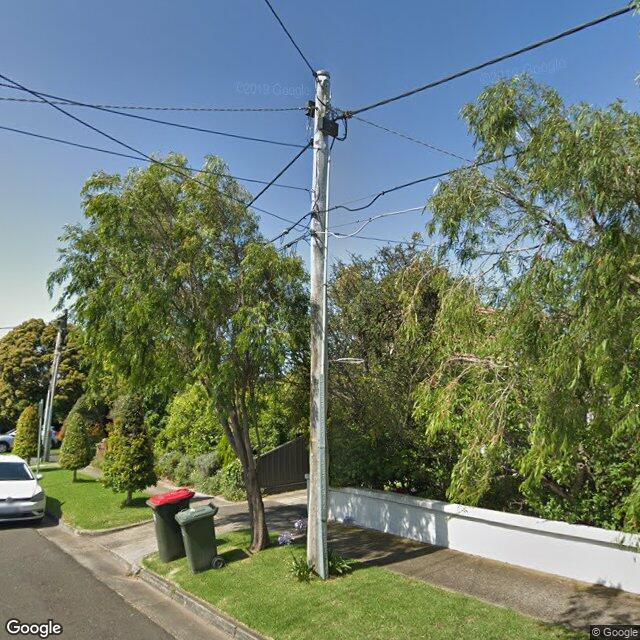timber-pole: (307, 71, 331, 581), (40, 330, 62, 461)
